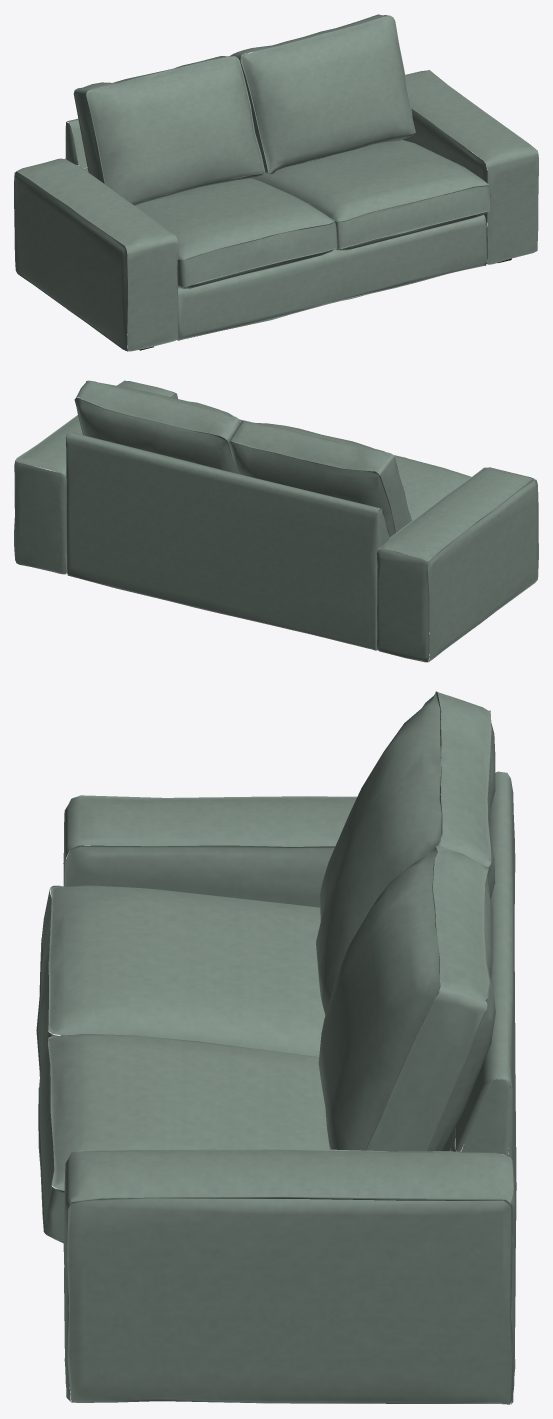
File: cover-tallmyra-jasnozielony.glb
The picture shows the model from 3 angles, top to bottom: view 1: azimuth 30°, elevation 25°; view 2: azimuth 150°, elevation 25°; view 3: azimuth 270°, elevation 25°; orthographic projection. The views are drawn at different scales.
Visible parts, largest first — view 1: Mesh_0.001; view 2: Mesh_0.001; view 3: Mesh_0.001.
Part boxes in pixels (bbox=[...]): Mesh_0.001: bbox=[14, 14, 538, 351]; Mesh_0.001: bbox=[14, 380, 538, 662]; Mesh_0.001: bbox=[36, 691, 516, 1404].
Size of the model in its own units: 1.9 by 0.8299 by 0.9501.
2 materials, 2 textured.
